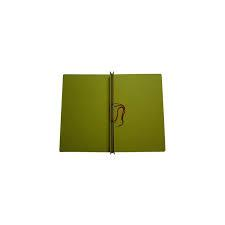Cardboard: (49, 58, 192, 173)
